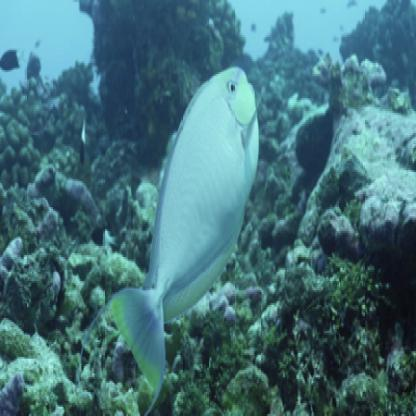surgeon: (87, 60, 270, 408)
